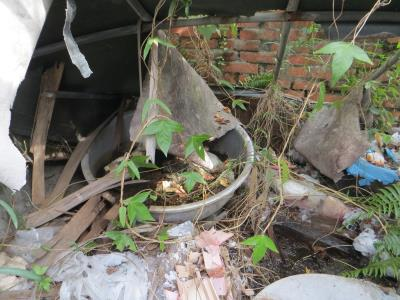bowl: (80, 107, 260, 226)
plastic_bag: (54, 253, 158, 300)
